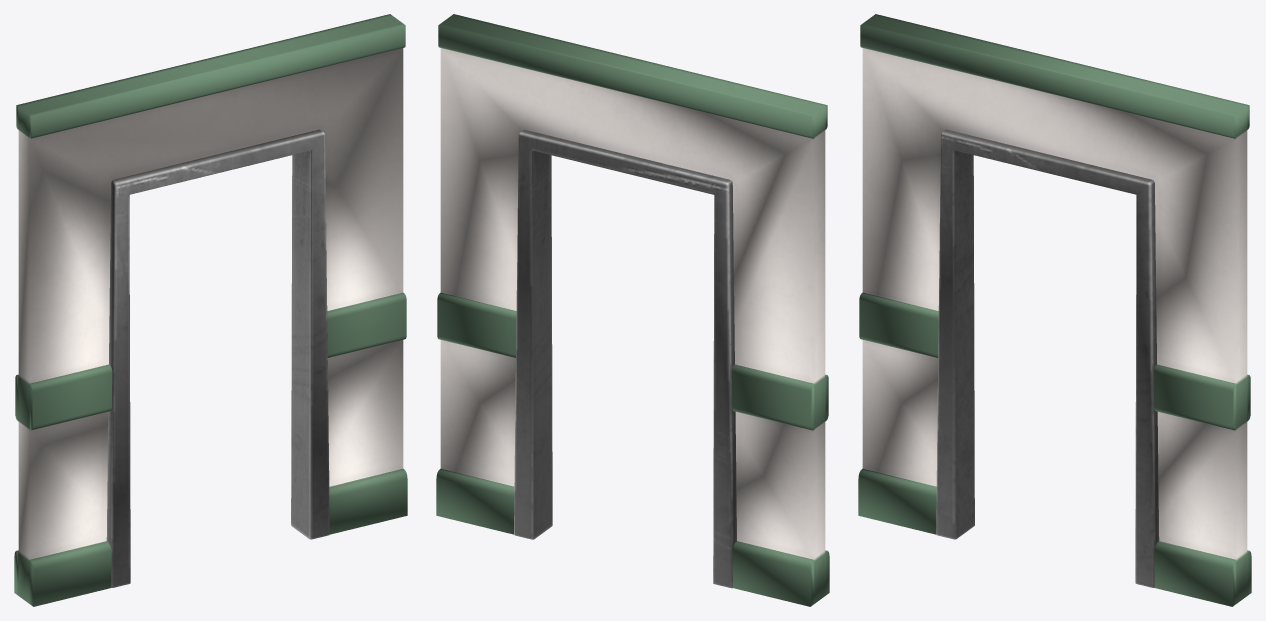
Rendered from Tile_Wall_Doorway_1.glb.
The picture shows the model from 3 angles, left to right: view 1: azimuth 30°, elevation 25°; view 2: azimuth 150°, elevation 25°; view 3: azimuth 330°, elevation 25°; orthographic projection.
Parts seen in each view (by area): view 1: Tile_Wall_Doorway_1; view 2: Tile_Wall_Doorway_1; view 3: Tile_Wall_Doorway_1.
Boxes of the visible parts, x1,y1,x2,y2 form: Tile_Wall_Doorway_1: (14,14,407,606); Tile_Wall_Doorway_1: (436,14,829,606); Tile_Wall_Doorway_1: (858,14,1251,606).
Size of the model in its own units: 2 by 2.5 by 0.1868.
1 material, 1 textured.
